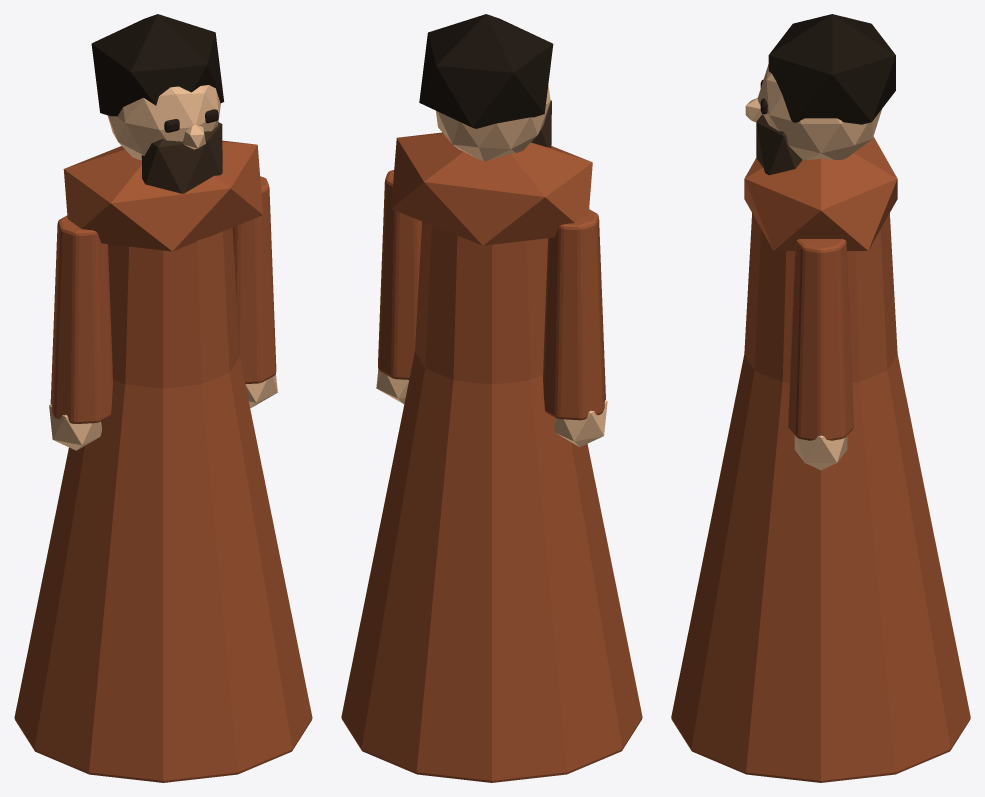
File: pilgrim2.glb
The picture shows the model from 3 angles, left to right: view 1: azimuth 30°, elevation 25°; view 2: azimuth 150°, elevation 25°; view 3: azimuth 270°, elevation 25°; orthographic projection.
Visible parts, largest first — view 1: Cone, Cone.001, Icosphere, Cone.003, Icosphere.004, Cone.002, Icosphere.003, Icosphere.005, Icosphere.002, Icosphere.001; view 2: Cone, Cone.001, Icosphere, Icosphere.004, Cone.003, Cone.002, Icosphere.003, Icosphere.002, Icosphere.001; view 3: Cone, Cone.001, Cone.002, Icosphere, Icosphere.004, Icosphere.003, Icosphere.005, Icosphere.001.
Part boxes in pixels (left/top/right/bottom): Cone: left=14, top=357, right=312, bottom=782; Cone.001: left=108, top=227, right=239, bottom=388; Icosphere: left=63, top=140, right=263, bottom=251; Cone.003: left=50, top=215, right=112, bottom=423; Icosphere.004: left=91, top=14, right=224, bottom=116; Cone.002: left=232, top=176, right=276, bottom=384; Icosphere.003: left=107, top=85, right=220, bottom=160; Icosphere.005: left=141, top=122, right=222, bottom=193; Icosphere.002: left=49, top=404, right=101, bottom=450; Icosphere.001: left=245, top=374, right=277, bottom=408; Cone: left=341, top=352, right=642, bottom=782; Cone.001: left=415, top=221, right=547, bottom=384; Icosphere: left=391, top=132, right=592, bottom=245; Icosphere.004: left=419, top=14, right=553, bottom=128; Cone.003: left=543, top=209, right=605, bottom=420; Cone.002: left=378, top=170, right=421, bottom=379; Icosphere.003: left=436, top=85, right=550, bottom=160; Icosphere.002: left=554, top=400, right=607, bottom=446; Icosphere.001: left=376, top=370, right=409, bottom=403; Cone: left=671, top=355, right=970, bottom=782; Cone.001: left=744, top=212, right=897, bottom=382; Cone.002: left=788, top=239, right=853, bottom=440; Icosphere: left=744, top=136, right=897, bottom=250; Icosphere.004: left=768, top=14, right=895, bottom=124; Icosphere.003: left=757, top=64, right=881, bottom=159; Icosphere.005: left=756, top=114, right=802, bottom=175; Icosphere.001: left=794, top=435, right=847, bottom=470.
Bounding box in the file's own units: 0.7964 × 2.07 × 0.7964.
